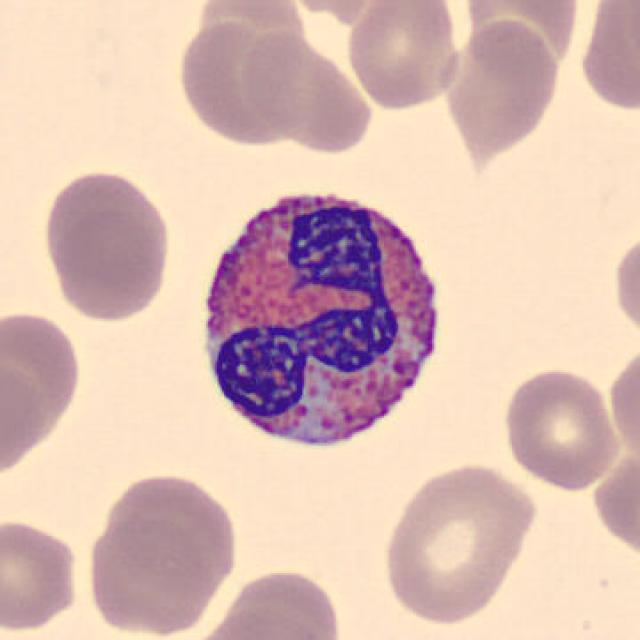Eosinophil: (187, 169, 457, 467)
RBC: (377, 458, 540, 628), (37, 166, 176, 324), (173, 5, 311, 150), (92, 469, 242, 601), (444, 10, 566, 158), (246, 30, 377, 160), (500, 363, 622, 492), (0, 303, 87, 469), (343, 0, 464, 111), (0, 515, 84, 636), (199, 573, 349, 640), (457, 0, 583, 79), (576, 0, 638, 116), (0, 344, 48, 483), (183, 606, 339, 640), (606, 338, 638, 471), (610, 226, 638, 347), (274, 0, 393, 21)
